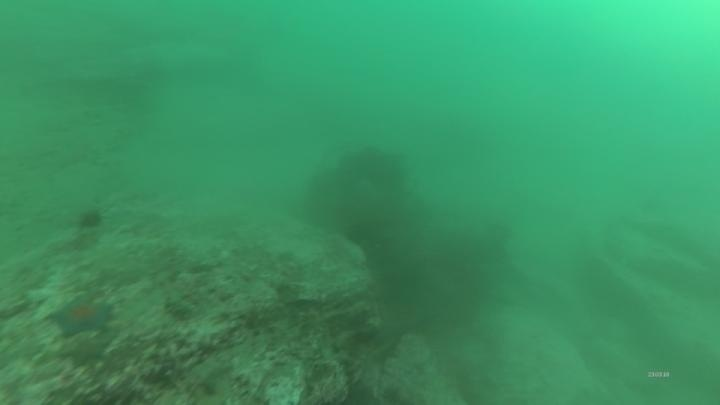echinus: (74, 206, 106, 233)
starfish: (47, 293, 116, 340), (61, 334, 110, 368)
